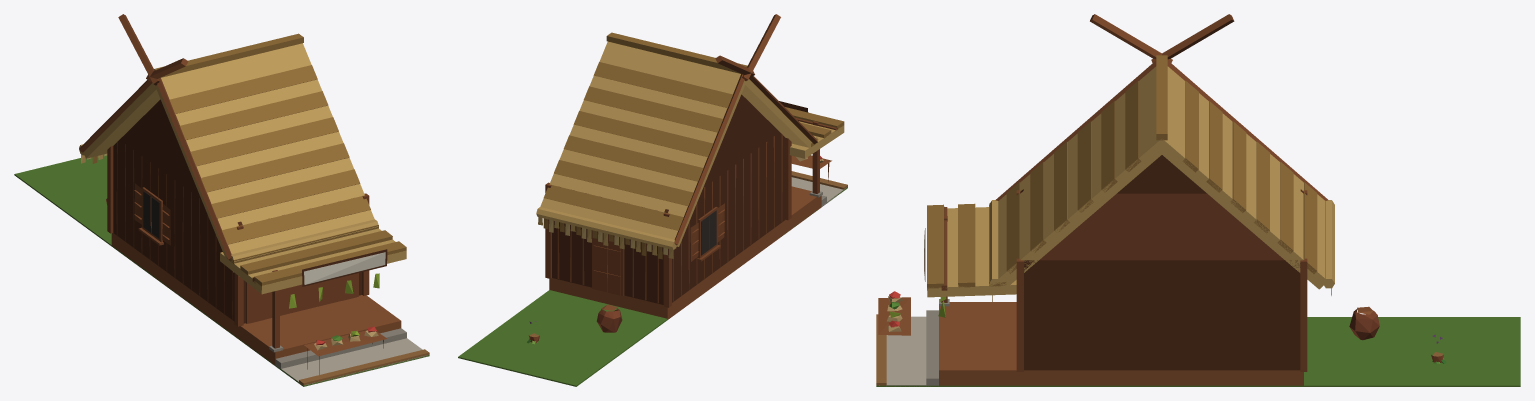
The model's file is bay1_left.glb.
The picture shows the model from 3 angles, left to right: view 1: azimuth 30°, elevation 25°; view 2: azimuth 150°, elevation 25°; view 3: azimuth 270°, elevation 25°; orthographic projection. The views are drawn at different scales.
Visible parts, largest first — view 1: body, windows; view 2: body, windows; view 3: body.
Boxes of the visible parts, x1=… form: body: x1=14, y1=14, x2=429, y2=386; windows: x1=143, y1=191, x2=159, y2=238; body: x1=458, y1=14, x2=847, y2=386; windows: x1=701, y1=210, x2=716, y2=255; body: x1=876, y1=14, x2=1520, y2=386.
Size of the model in its own units: 4.91 by 8.12 by 15.9.
